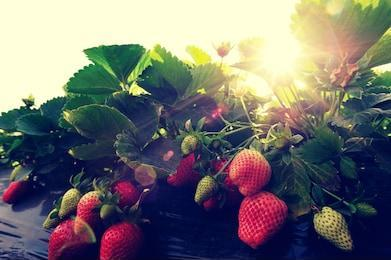Fresa: (237, 188, 289, 251), (227, 144, 273, 199), (96, 212, 145, 260)
